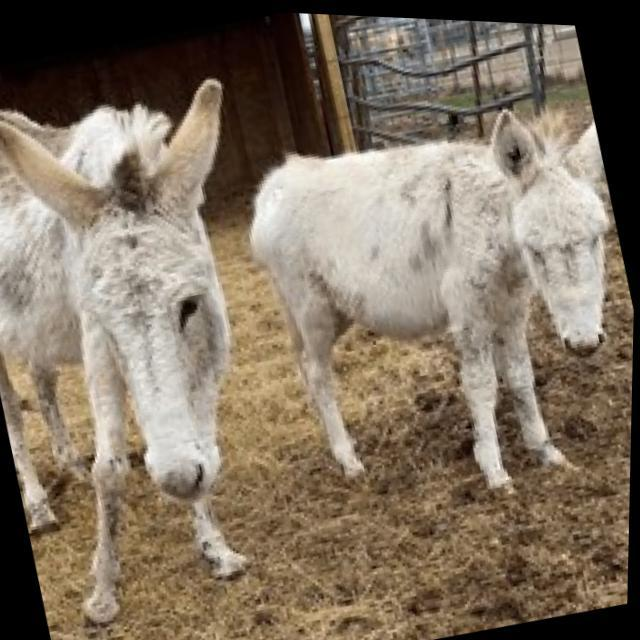Donkey: (0, 39, 336, 640), (223, 70, 639, 539)
